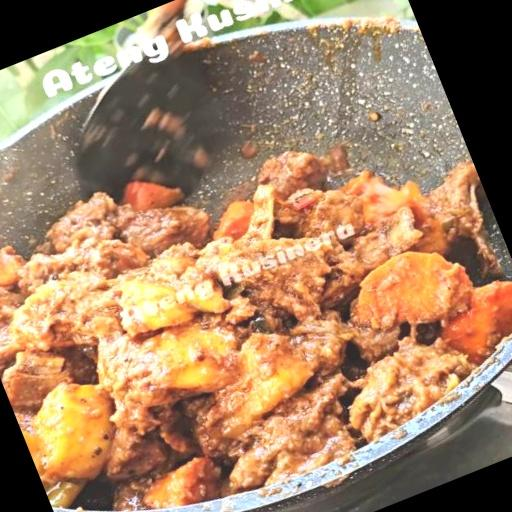pork caldereta: (0, 139, 511, 511)
